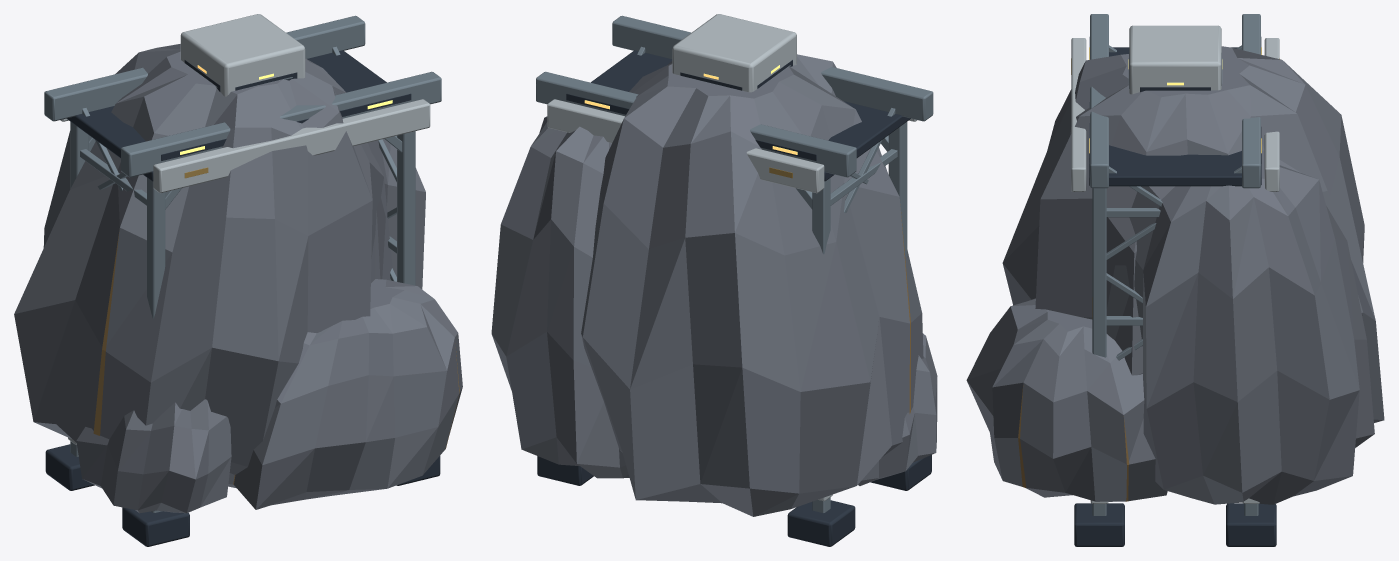
Rendered from kit-v1.glb.
The picture shows the model from 3 angles, left to right: view 1: azimuth 30°, elevation 25°; view 2: azimuth 150°, elevation 25°; view 3: azimuth 270°, elevation 25°; orthographic projection.
Visible parts, largest first — view 1: asteroid-crag_rock, mining-gantry_alloy, mining-gantry_ceramic, mining-gantry_graphite, asteroid-crag_ore; view 2: asteroid-crag_rock, mining-gantry_alloy, mining-gantry_ceramic, mining-gantry_graphite; view 3: asteroid-crag_rock, mining-gantry_alloy, mining-gantry_graphite, mining-gantry_ceramic.
Boxes of the visible parts, x1,y1,x2,y2 form: asteroid-crag_rock: (14, 44, 462, 513); mining-gantry_alloy: (44, 15, 441, 512); mining-gantry_ceramic: (60, 14, 430, 444); mining-gantry_graphite: (45, 50, 440, 546); asteroid-crag_ore: (93, 232, 459, 484); asteroid-crag_rock: (491, 54, 937, 516); mining-gantry_alloy: (536, 15, 933, 512); mining-gantry_ceramic: (547, 14, 917, 501); mining-gantry_graphite: (537, 50, 931, 546); asteroid-crag_rock: (966, 46, 1384, 504); mining-gantry_alloy: (1090, 14, 1260, 515); mining-gantry_graphite: (1074, 37, 1276, 546); mining-gantry_ceramic: (1071, 25, 1279, 503).
Size of the model in its own units: 14 by 16 by 14.
